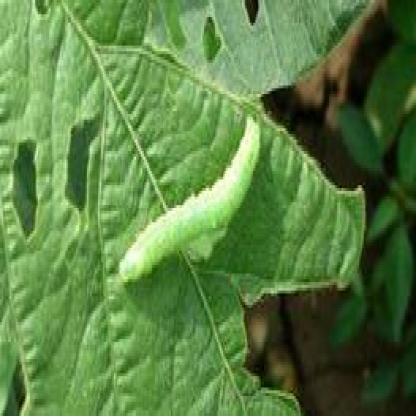armyworm: (116, 111, 265, 286)
